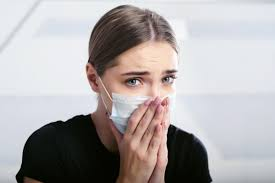with-mask: (90, 13, 181, 147)
